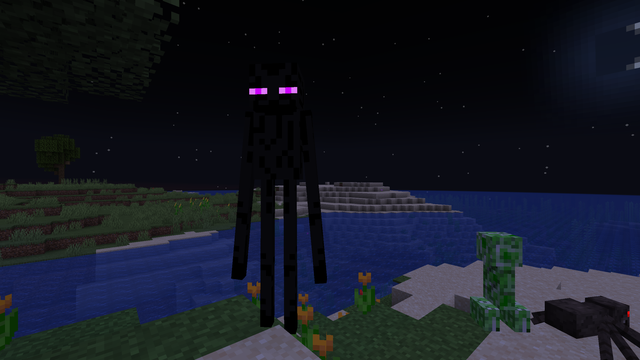araignees: (545, 282, 615, 353)
creepers: (473, 226, 522, 337)
endermens: (242, 46, 316, 349)
